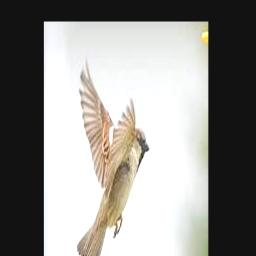Sparrow: (77, 59, 150, 256)
